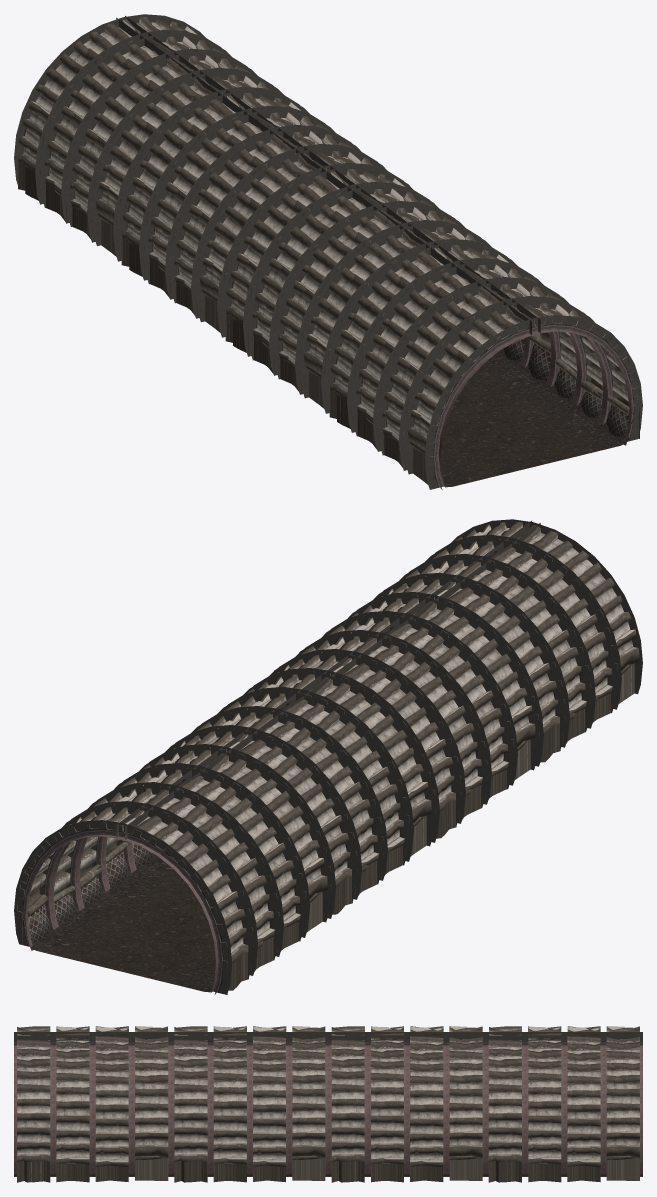
File: tunnel_tile_5.dae
3 renders of one model, top to bottom at view 1: azimuth 30°, elevation 25°; view 2: azimuth 150°, elevation 25°; view 3: azimuth 270°, elevation 25°, orthographic. The views are drawn at different scales.
Parts seen in each view (by area): view 1: Walls, Ground, Chainlink, Wood; view 2: Walls, Ground, Chainlink, Wood; view 3: Walls, Wood.
Boxes of the visible parts, x1,y1,x2,y2 form: Walls: (14,14,642,489); Ground: (441,349,629,487); Chainlink: (440,338,634,489); Wood: (52,186,633,459); Walls: (14,519,642,994); Ground: (27,854,215,992); Chainlink: (22,665,632,994); Wood: (22,664,631,967); Walls: (14,1026,642,1182); Wood: (66,1155,634,1165).
Size of the model in its own units: 6.06 by 20 by 3.99.
